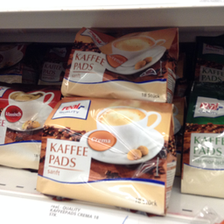coffee: (38, 97, 177, 217), (61, 29, 179, 101), (1, 85, 55, 169)
